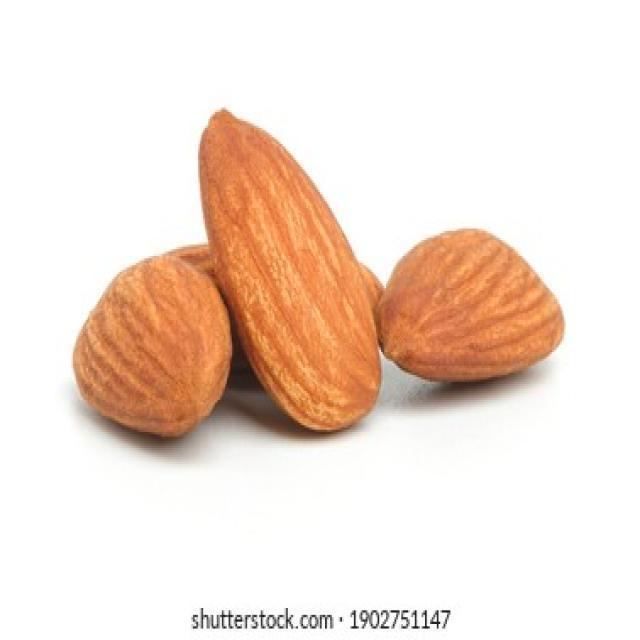almond: (198, 102, 385, 438), (387, 230, 563, 385), (74, 262, 224, 440)
